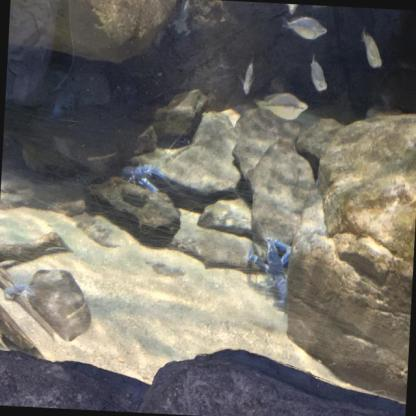fish: (255, 88, 310, 124), (280, 16, 327, 42), (360, 26, 384, 70), (309, 54, 331, 94), (238, 55, 257, 96), (284, 4, 302, 17), (312, 6, 337, 12)
